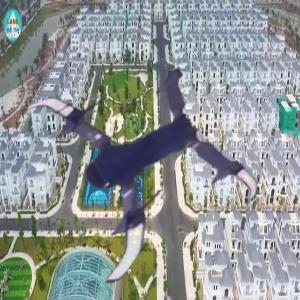drone: (13, 53, 239, 279)
